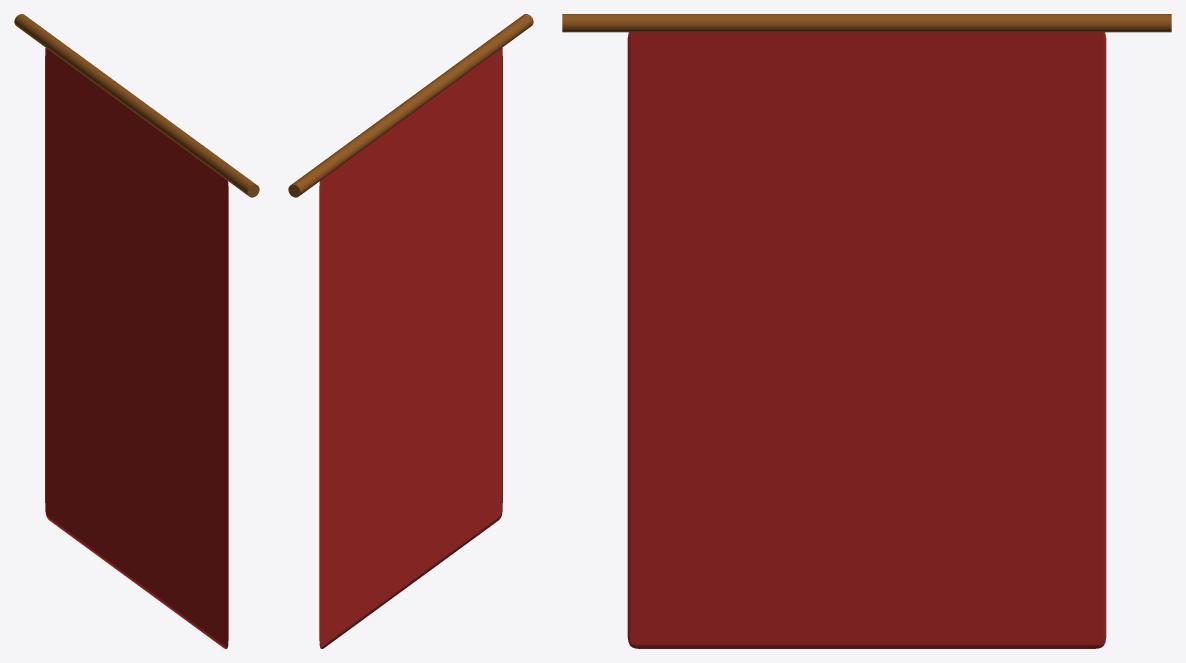
File: cortina.fbx
3 renders of one model, left to right at view 1: azimuth 30°, elevation 25°; view 2: azimuth 150°, elevation 25°; view 3: azimuth 270°, elevation 25°, orthographic. The views are drawn at different scales.
Visible parts, largest first — view 1: Plane, Cylinder; view 2: Plane, Cylinder; view 3: Plane, Cylinder.
Part boxes in pixels (x1,y1,x2,y2): Plane: (45,47,228,648); Cylinder: (14,14,259,197); Plane: (319,47,502,648); Cylinder: (288,14,533,197); Plane: (627,32,1106,648); Cylinder: (562,14,1171,32).
Bounding box in the file's own units: 10.66 × 408 × 355.
